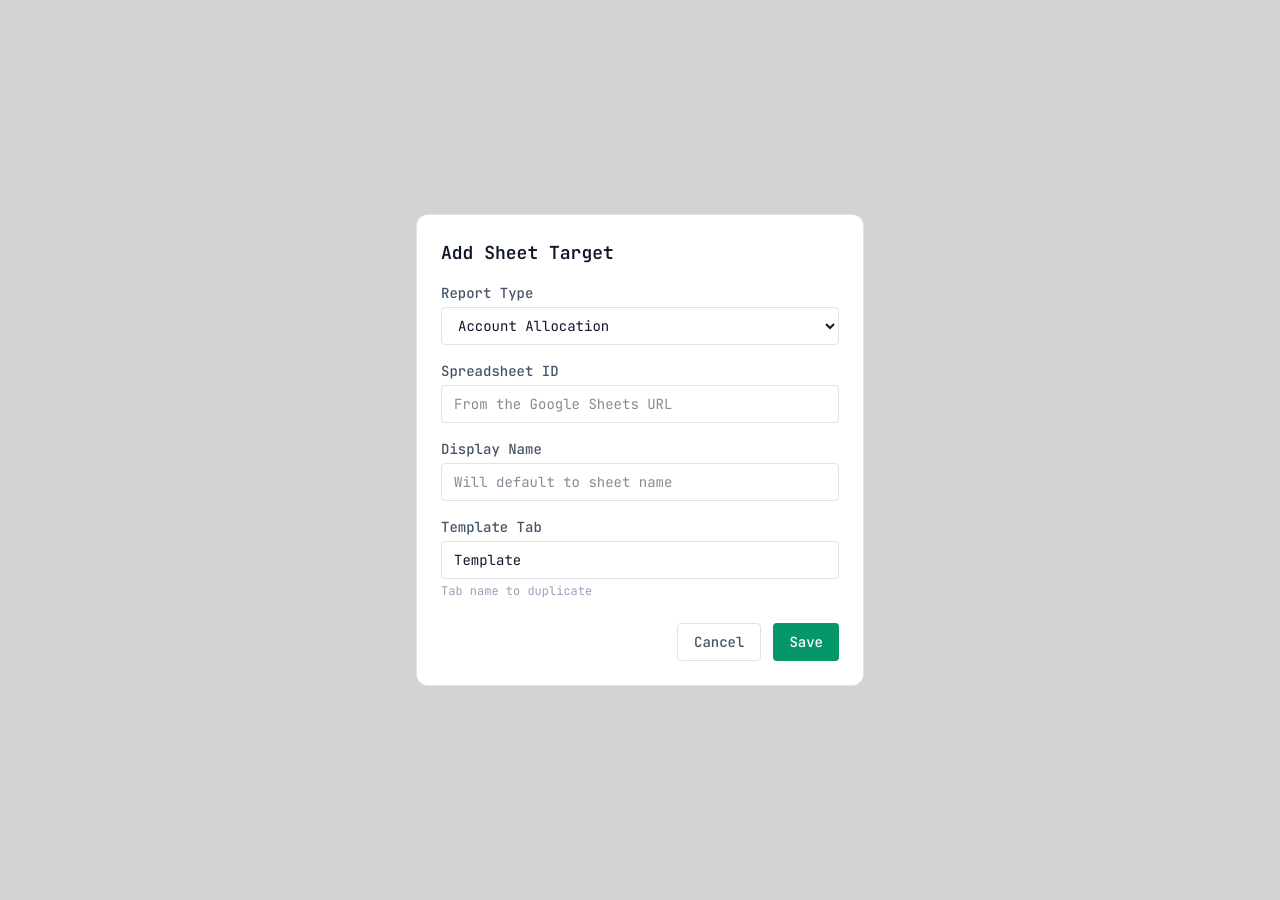
Test: SheetTargetDialog › create mode › shows error on submit failure
Type "bad-id" into the field with test id "spreadsheet-id-input" at (640, 404), box [441,385,839,423]
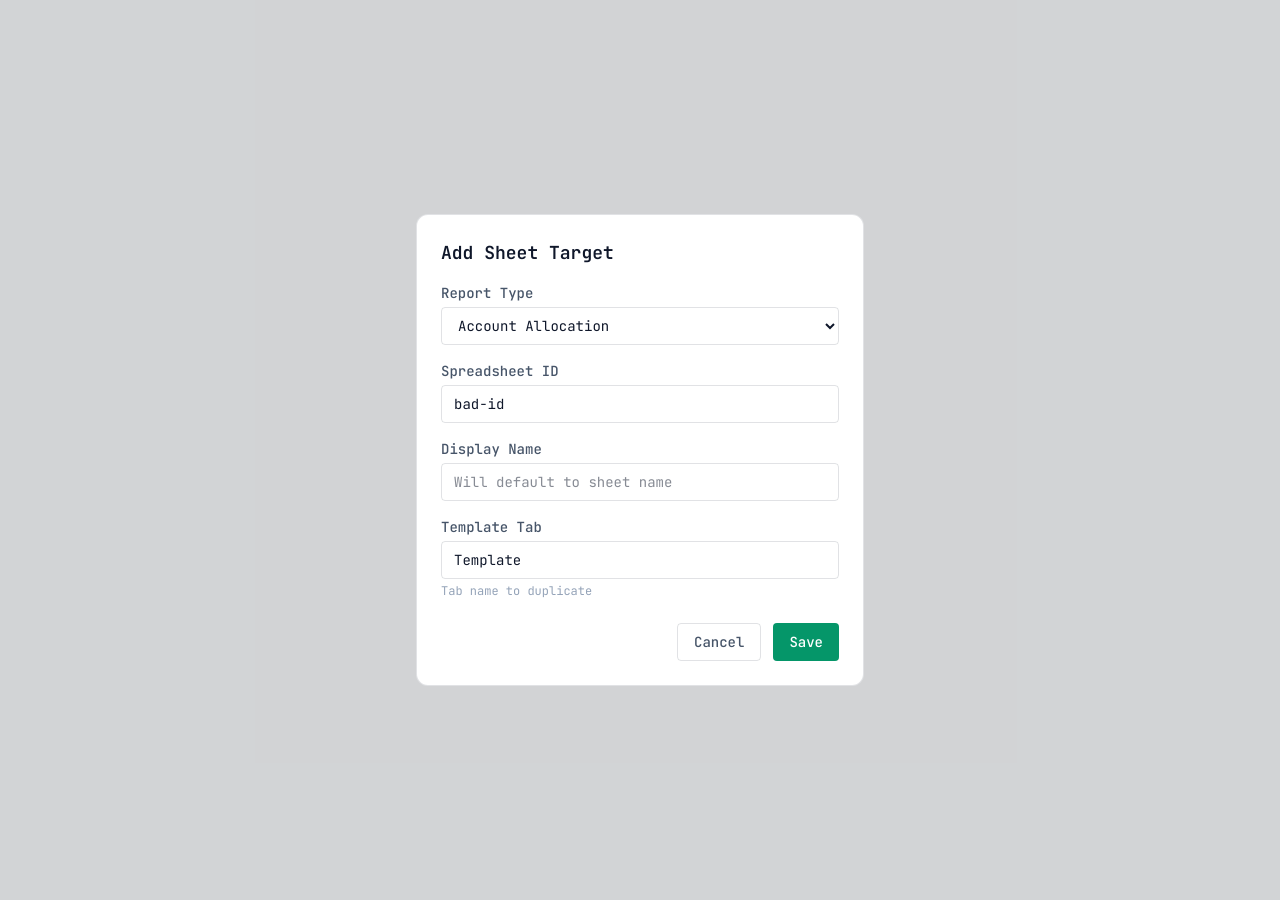
Click the button "Save" at (806, 642), box [773,623,839,661]
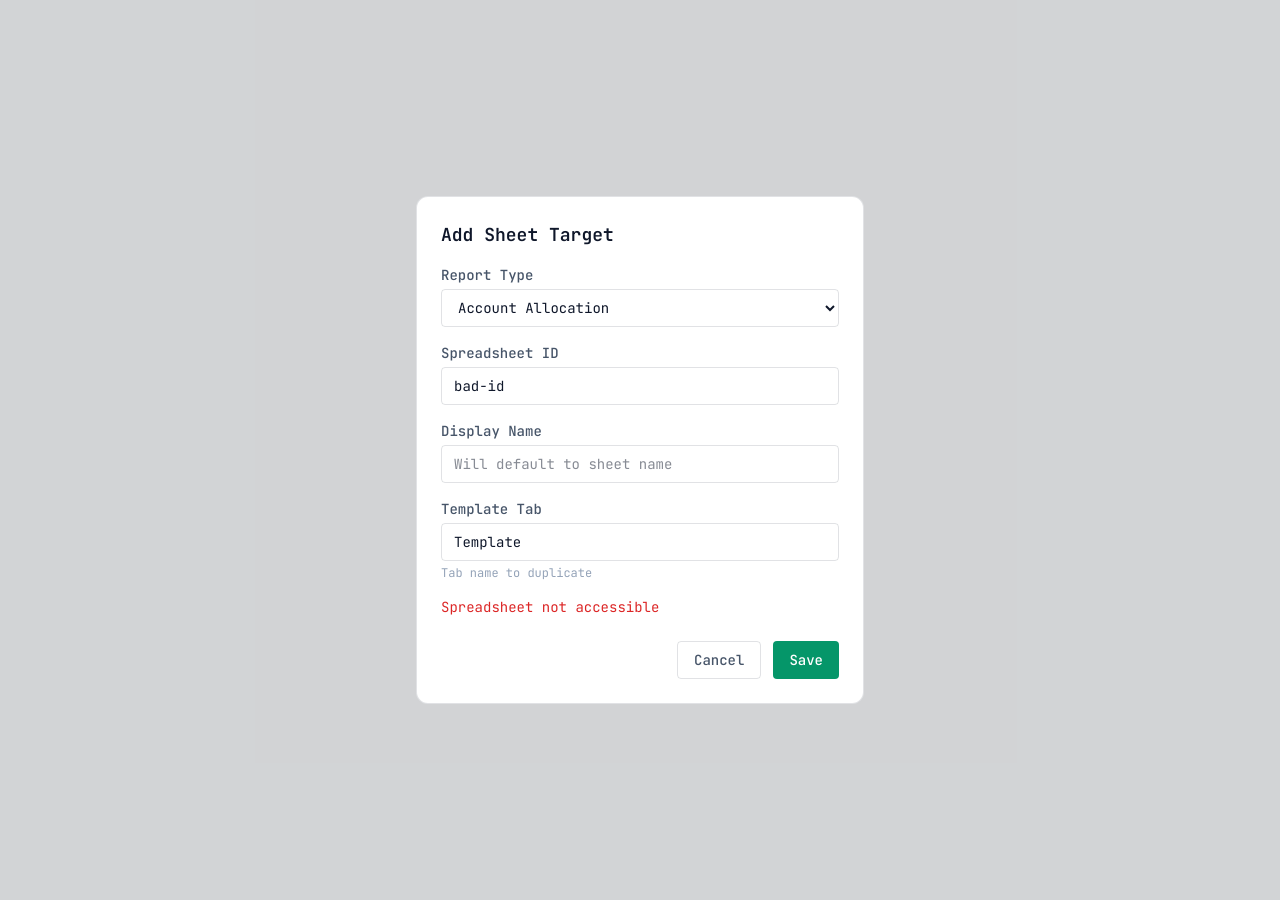
Result: the text with test id "target-error" reads "Spreadsheet not accessible" at [441,598,659,616]
